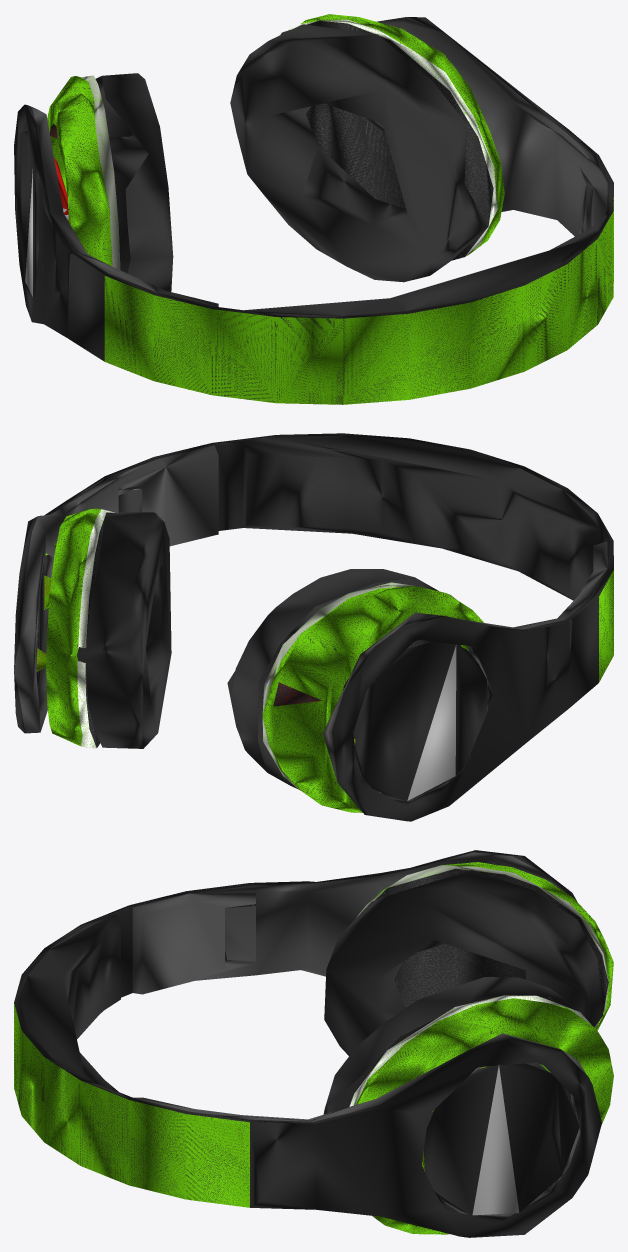
Rendered from model_align.obj.
3 views of the same model, one above another, from view 1: azimuth 30°, elevation 25°; view 2: azimuth 150°, elevation 25°; view 3: azimuth 270°, elevation 25° (orthographic).
Size of the model in its own units: 0.1577 by 0.067 by 0.1645.
